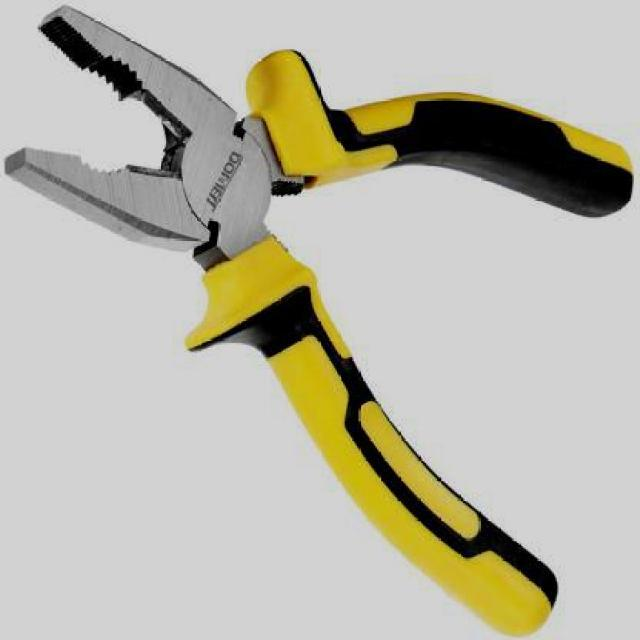pliers: (7, 10, 633, 636)
